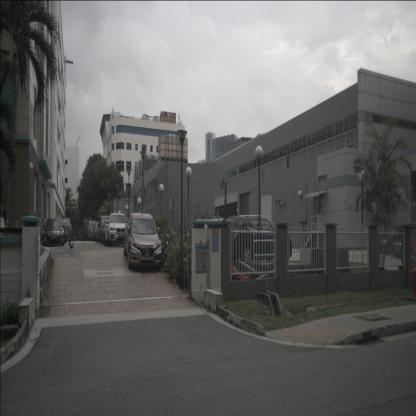vehicle-car: (224, 214, 293, 264), (123, 212, 162, 271), (380, 224, 416, 269), (104, 212, 130, 247), (42, 218, 65, 246), (99, 215, 117, 244), (102, 219, 121, 246), (52, 221, 66, 243), (56, 220, 69, 242), (93, 221, 106, 241), (61, 226, 72, 241)
vehicle-truck: (58, 218, 70, 242), (87, 220, 100, 240)
